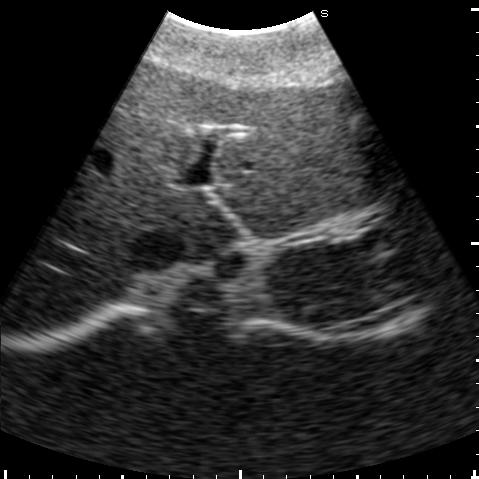IVC: (125, 225, 187, 276)
S1: (177, 194, 245, 266)
S2: (215, 159, 401, 241)
S3: (206, 71, 390, 201)
Tumor: (347, 116, 361, 134)
